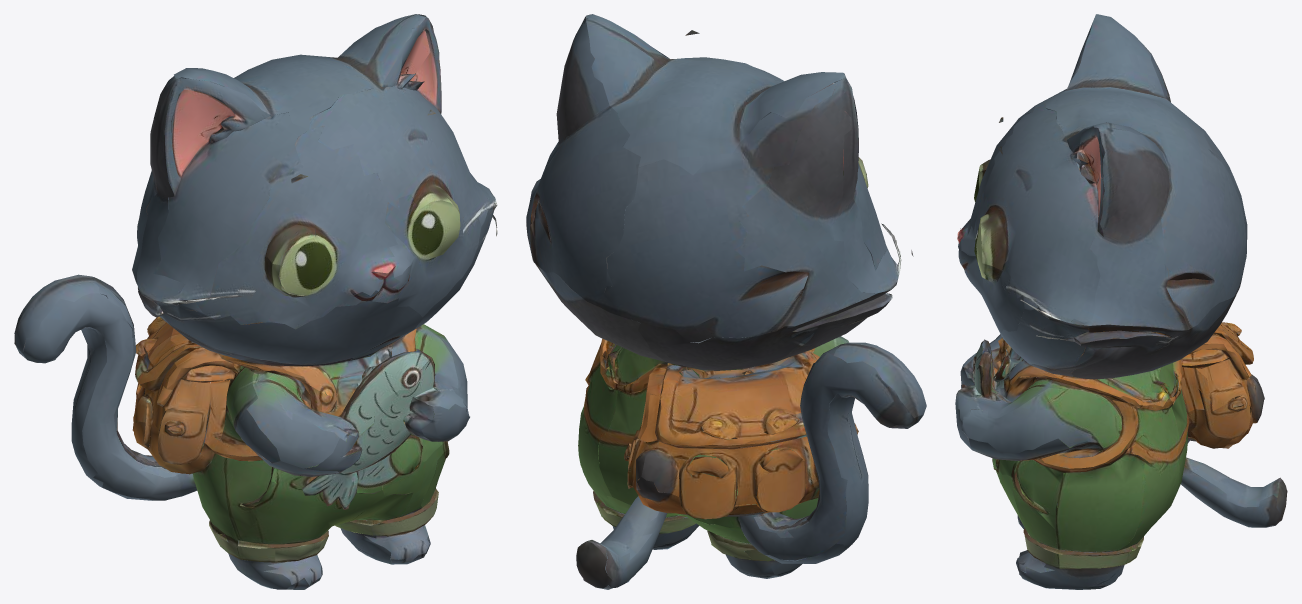
Rendered from cat.glb.
3 renders of one model, left to right at view 1: azimuth 30°, elevation 25°; view 2: azimuth 150°, elevation 25°; view 3: azimuth 270°, elevation 25°, orthographic. The views are drawn at different scales.
Visible parts, largest first — view 1: Low; view 2: Low; view 3: Low.
Boxes of the visible parts, <box> form: Low: <box>14,14,497,589</box>; Low: <box>526,14,926,589</box>; Low: <box>955,14,1287,589</box>.
Size of the model in its own units: 0.8745 by 1 by 0.6308.
Materials: 1 (1 with a texture image).
